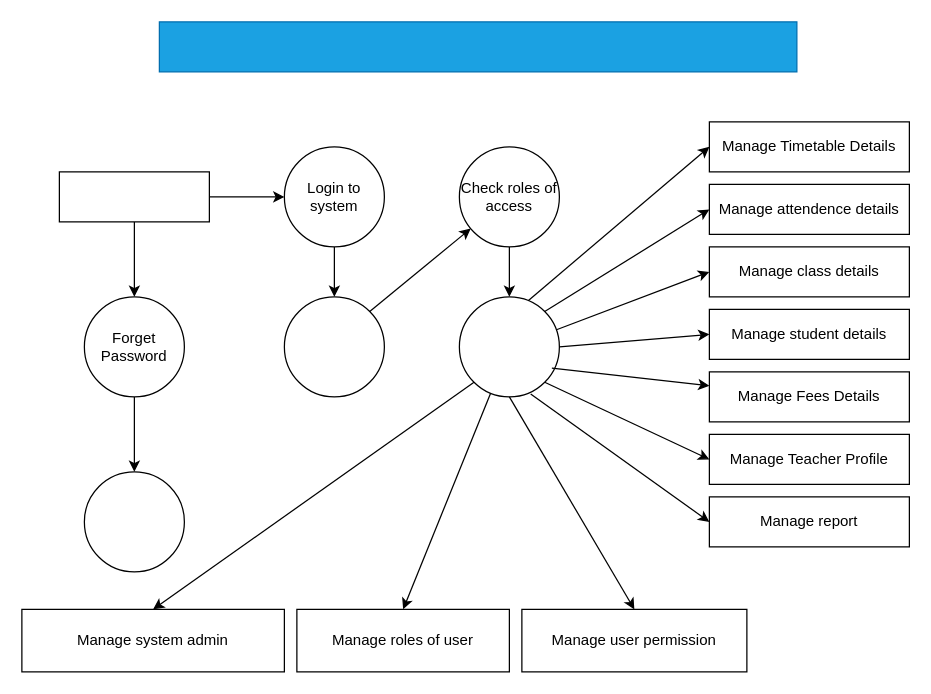
Image size: 931x694. Some labels were removed from this diagram. The shapes that lost their labels are listed below. From the top down, each one's centre as x and y in pixels, then its label:
At point (477, 46): "STUDENT INFORMATION SYSTEM".
At point (133, 196): "Admin".
At point (333, 346): "Check Credential".
At point (508, 346): "Manage Modules".
At point (133, 521): "Send email to user".
